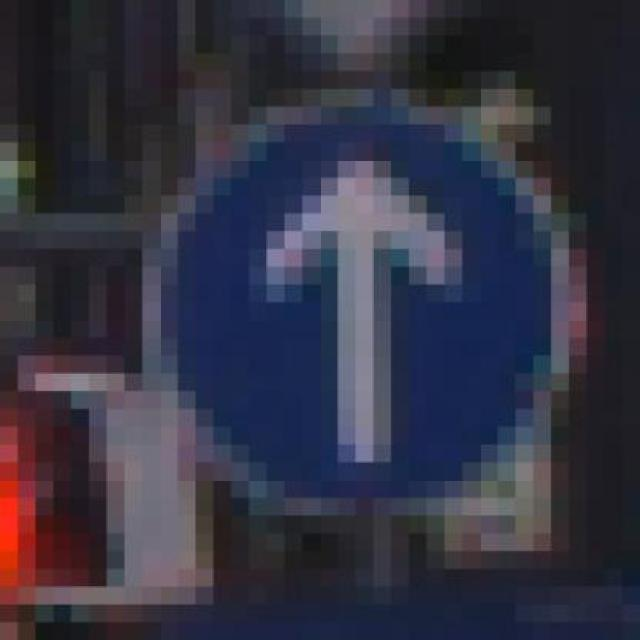Straight Ahead Only: (128, 92, 572, 520)
